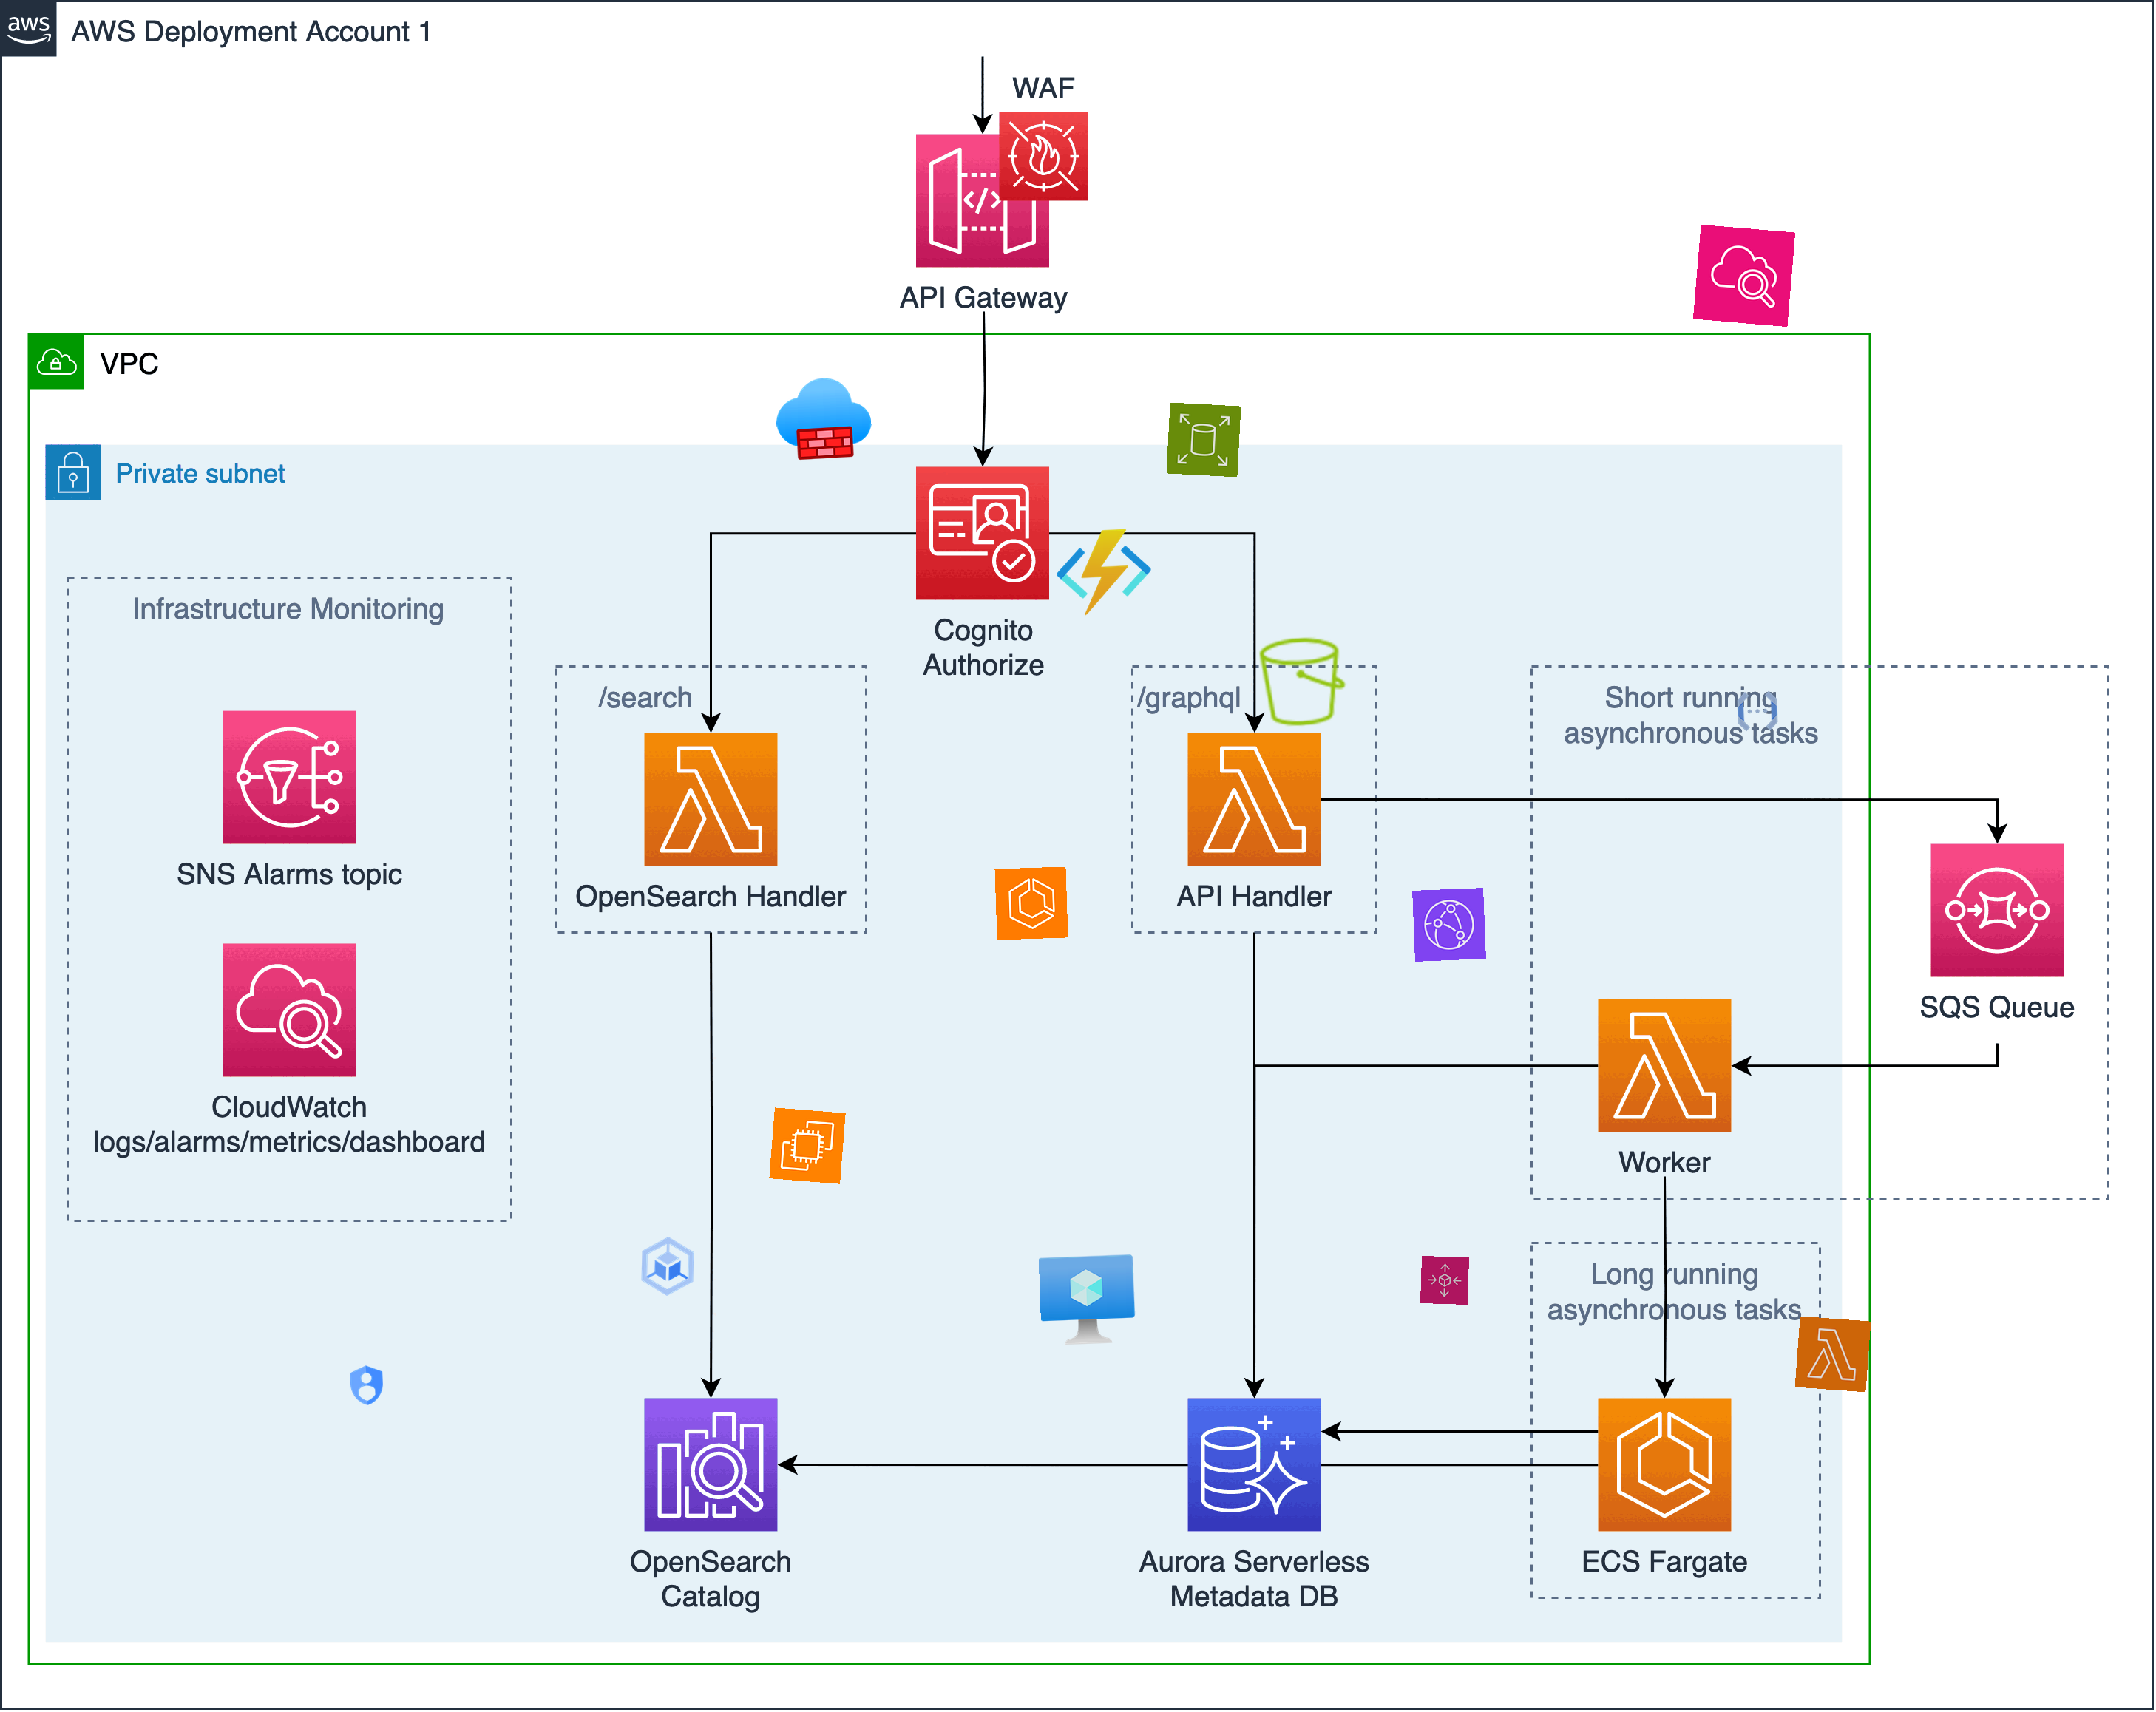aws_amazon_cloudfront: (1412, 888, 1486, 962)
aws_amazon_cloudwatch: (1692, 224, 1796, 327)
aws_amazon_ec2: (768, 1107, 845, 1184)
aws_amazon_elastic_block_store: (1165, 402, 1241, 477)
aws_amazon_elastic_container_service: (994, 866, 1069, 941)
aws_auto_scaling: (1419, 1256, 1470, 1306)
aws_lambda: (1794, 1315, 1871, 1392)
aws_simple_storage_service_s3_standard: (1253, 631, 1353, 731)
azure_firewalls: (773, 369, 873, 469)
azure_function_apps: (1053, 521, 1155, 623)
azure_virtual_machine: (1038, 1252, 1137, 1352)
gcp_cloud_functions: (1732, 685, 1783, 736)
gcp_google_kubernetes_engine: (630, 1229, 705, 1303)
gcp_identity_and_access_management: (341, 1361, 392, 1411)
